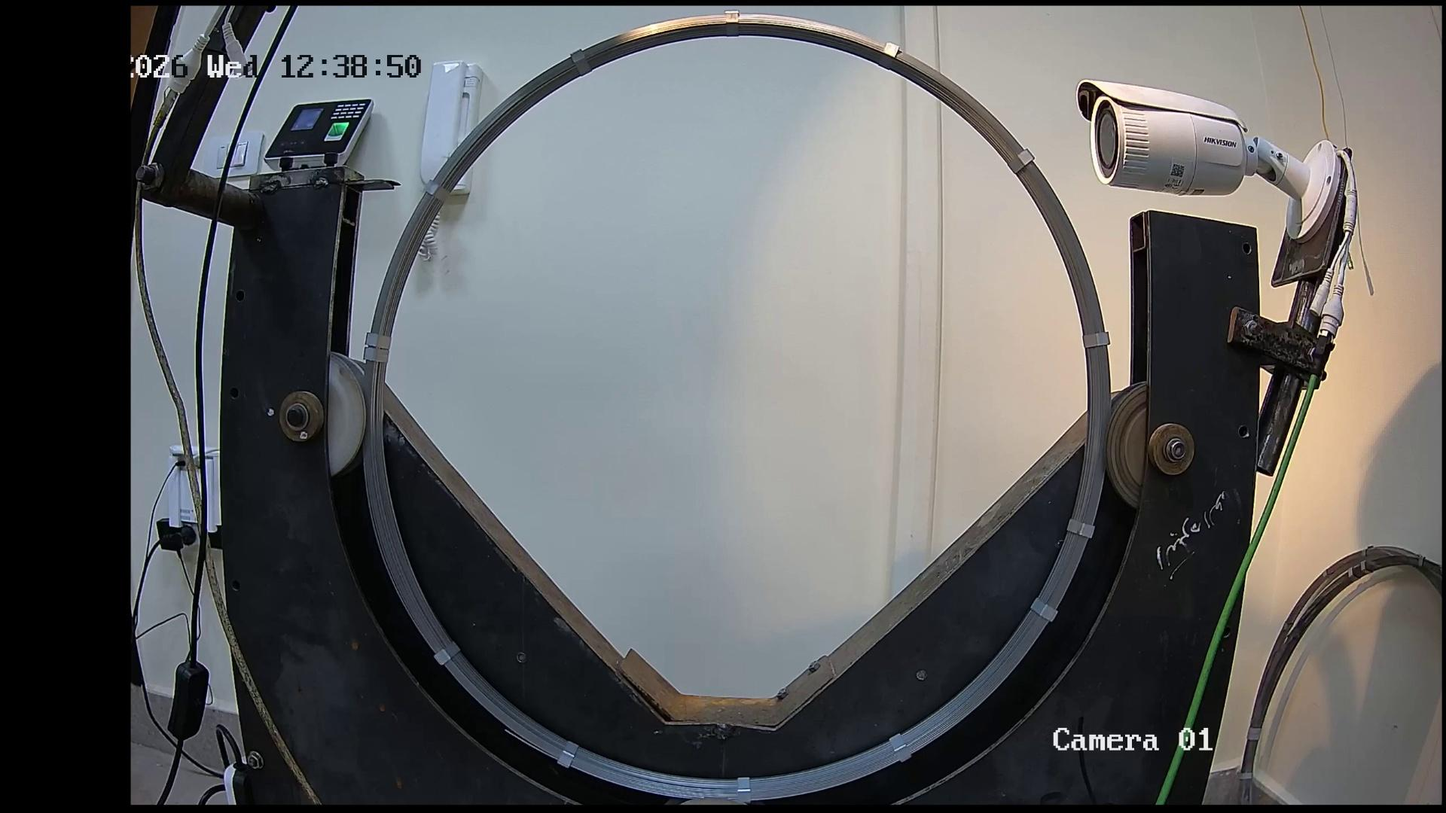clamp: (1008, 147, 1035, 174), (1030, 597, 1058, 623), (569, 48, 593, 77), (434, 640, 460, 666), (889, 733, 912, 762), (878, 40, 900, 70), (424, 179, 451, 203), (557, 740, 579, 768), (1066, 518, 1095, 539), (364, 331, 392, 350), (724, 9, 740, 38), (1082, 332, 1110, 348), (362, 347, 389, 363), (737, 777, 751, 804)
